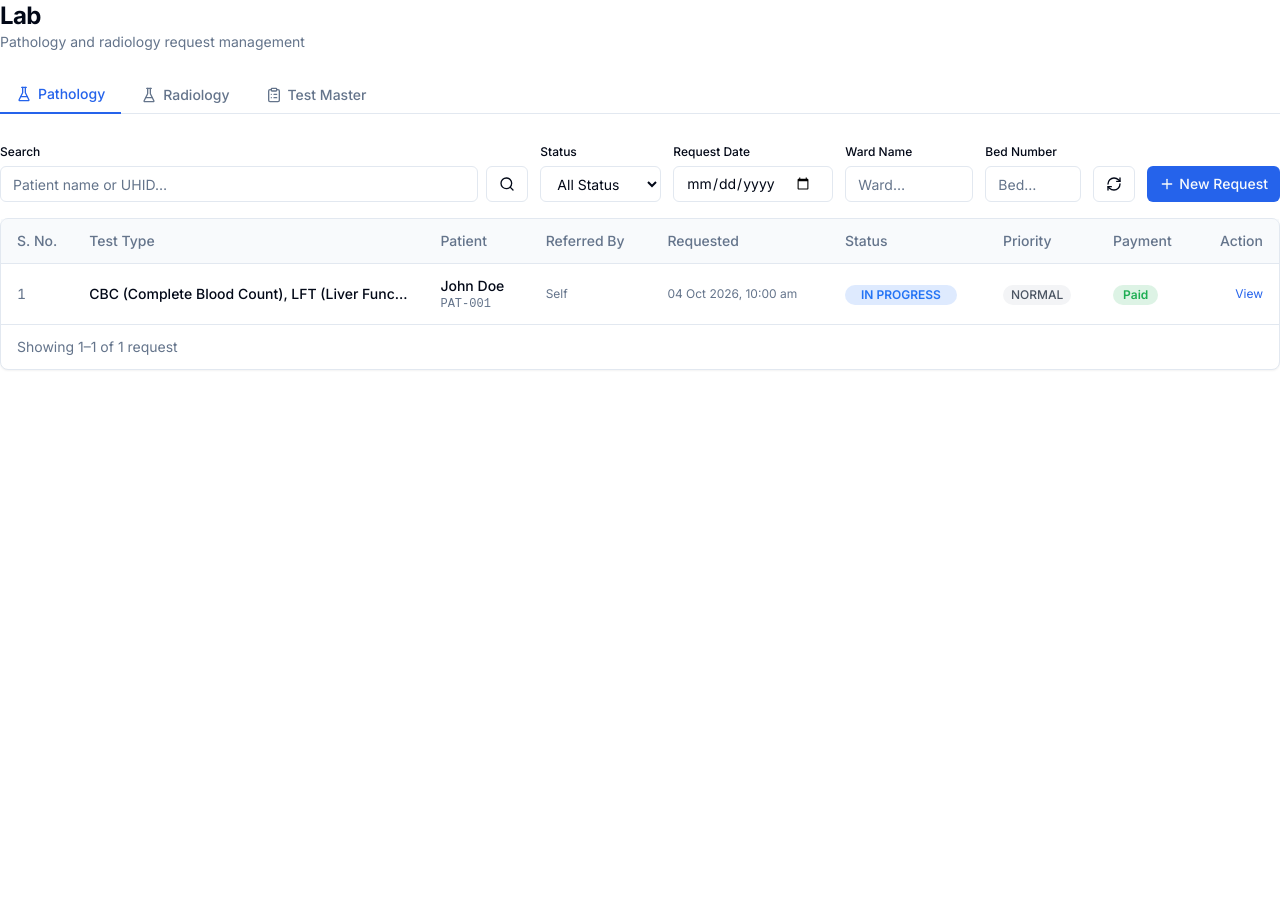
Requested tests are clickable › Radiology tests are not turned into report forms
Click the button "Radiology" at (185, 94), box [125,76,246,113]
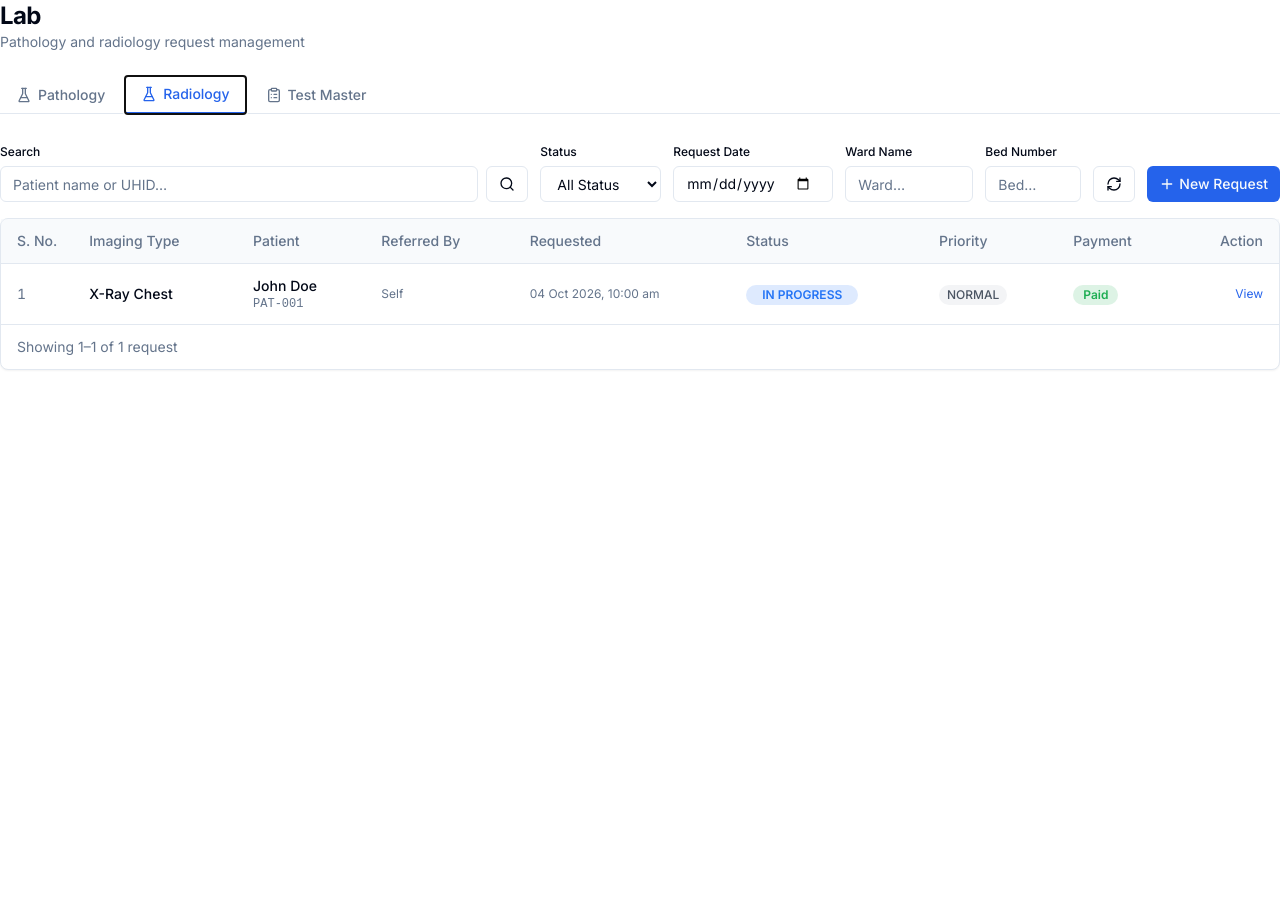
Click the button "View" at (1249, 294), box [1235,286,1263,302]
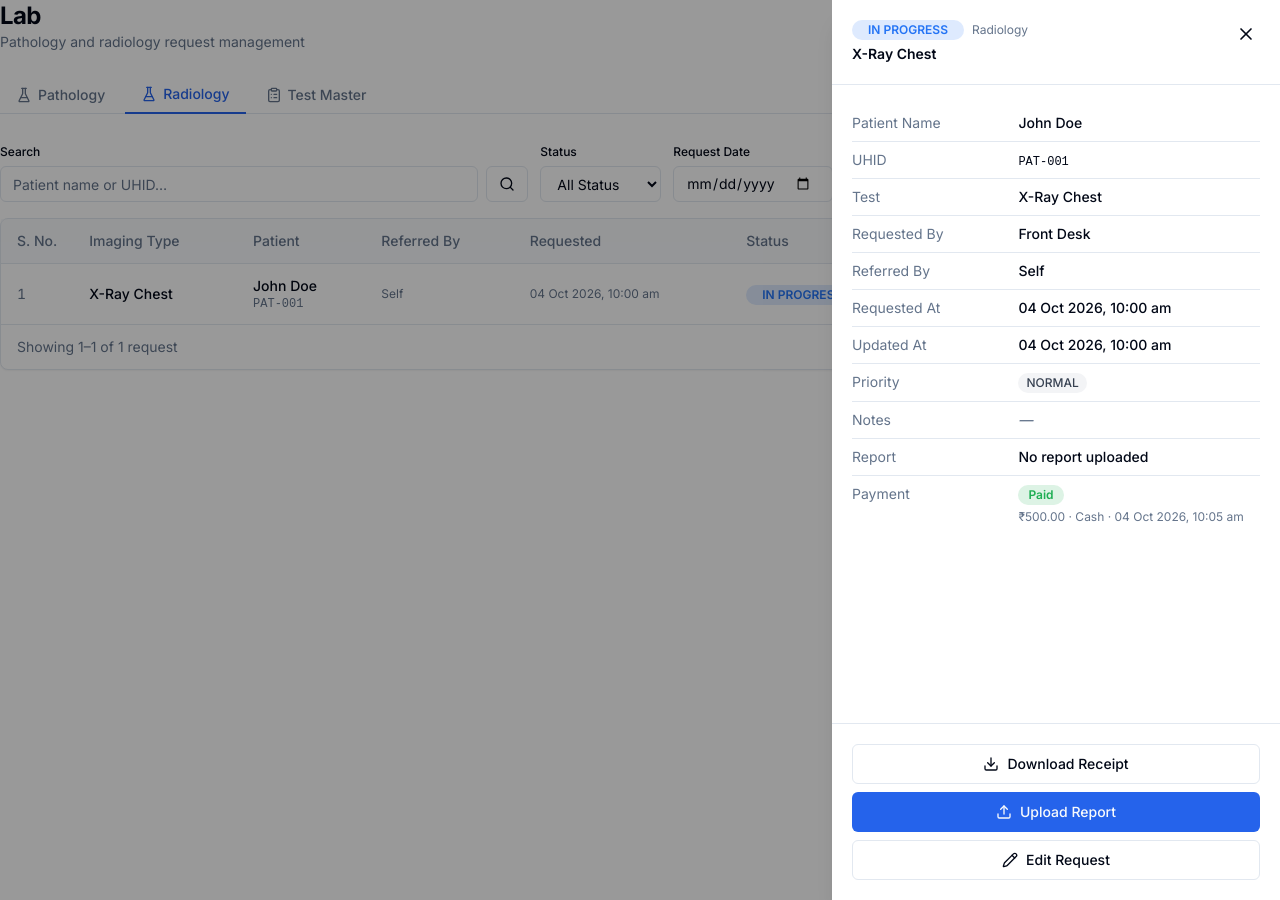
Now the list named "Requested tests" reads "X-Ray Chest", box [1018,188,1102,205]
